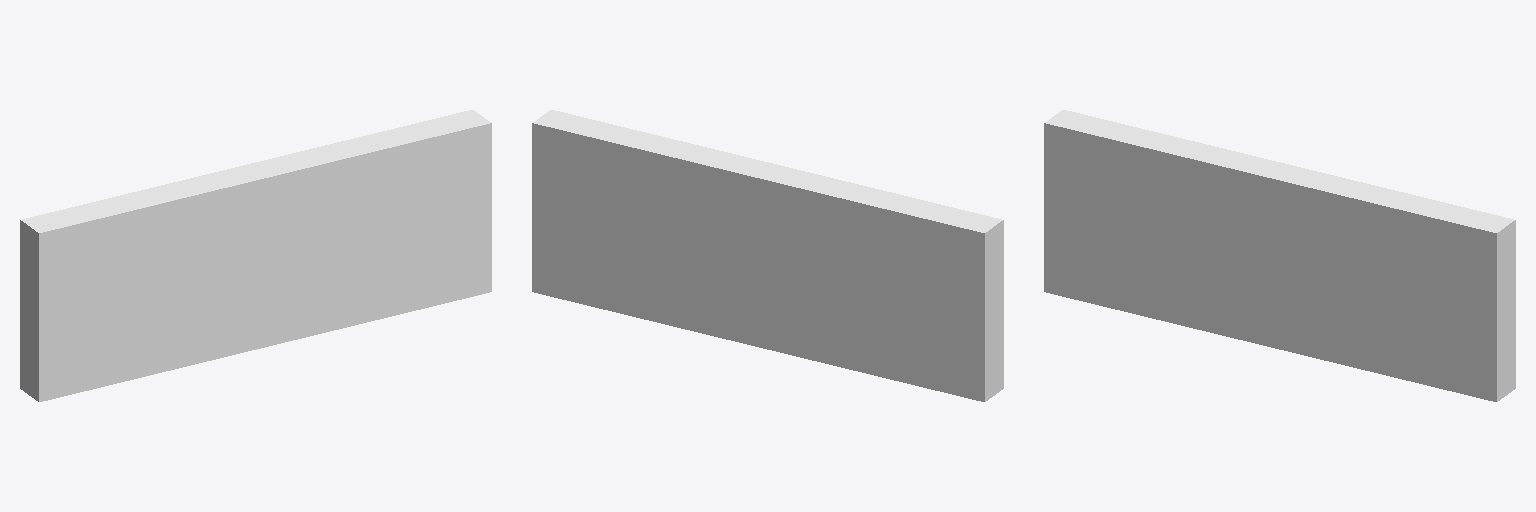
robot.urdf — front_boundary_shuku.SLDPRT:
<?xml version="1.0" encoding="utf-8"?>
<!-- This URDF was automatically created by SolidWorks to URDF Exporter! Originally created by [author] ([email redacted]) 
     Commit Version: 1.5.1-0-g916b5db  Build Version: 1.5.7152.31018
     For more information, please see http://wiki.ros.org/sw_urdf_exporter -->
<robot
  name="front_boundary_shuku.SLDPRT">
  <link
    name="front_boundary_shuku.SLDPRT">
    <inertial>
      <origin
        xyz="0.14 -0.01 0.05"
        rpy="0 0 0" />
      <mass
        value="0.56" />
      <inertia
        ixx="0.00048533"
        ixy="-5.5644E-20"
        ixz="-3.429E-21"
        iyy="0.0041253"
        iyz="-2.57325823256212E-20"
        izz="0.0036773" />
    </inertial>
    <visual>
      <origin
        xyz="0 0 0"
        rpy="1.5707963267949 0 0" />
      <geometry>
        <mesh
          filename="package://front_boundary_shuku.SLDPRT/meshes/front_boundary_shuku.SLDPRT.STL" />
      </geometry>
      <material
        name="">
        <color
          rgba="1 1 1 1" />
        <texture
          filename="package://front_boundary_shuku.SLDPRT/textures/" />
      </material>
    </visual>
    <collision>
      <origin
        xyz="0 0 0"
        rpy="1.5707963267949 0 0" />
      <geometry>
        <mesh
          filename="package://front_boundary_shuku.SLDPRT/meshes/front_boundary_shuku.SLDPRT.STL" />
      </geometry>
    </collision>
  </link>
</robot>

--- What the picture shows (computed from the rendered views, not written in the file) ---
Views: 3 orthographic renders of the robot side by side, from view 1: azimuth 30°, elevation 25°; view 2: azimuth 150°, elevation 25°; view 3: azimuth 330°, elevation 25°.
Robot: front_boundary_shuku.SLDPRT — 1 links, 0 joints (none); root link front_boundary_shuku.SLDPRT; default pose: all joints at 0.
Links seen in each view (by area): view 1: front_boundary_shuku.SLDPRT; view 2: front_boundary_shuku.SLDPRT; view 3: front_boundary_shuku.SLDPRT.
Boxes of the visible links, <box> form: front_boundary_shuku.SLDPRT: <box>20,110,491,401</box>; front_boundary_shuku.SLDPRT: <box>532,110,1003,401</box>; front_boundary_shuku.SLDPRT: <box>1044,110,1515,401</box>.
Size in the robot's own frame: 0.28 by 0.02 by 0.1 metres.
Meshes: 1 distinct files referenced, 1 mesh visuals loaded (1 binary STL).